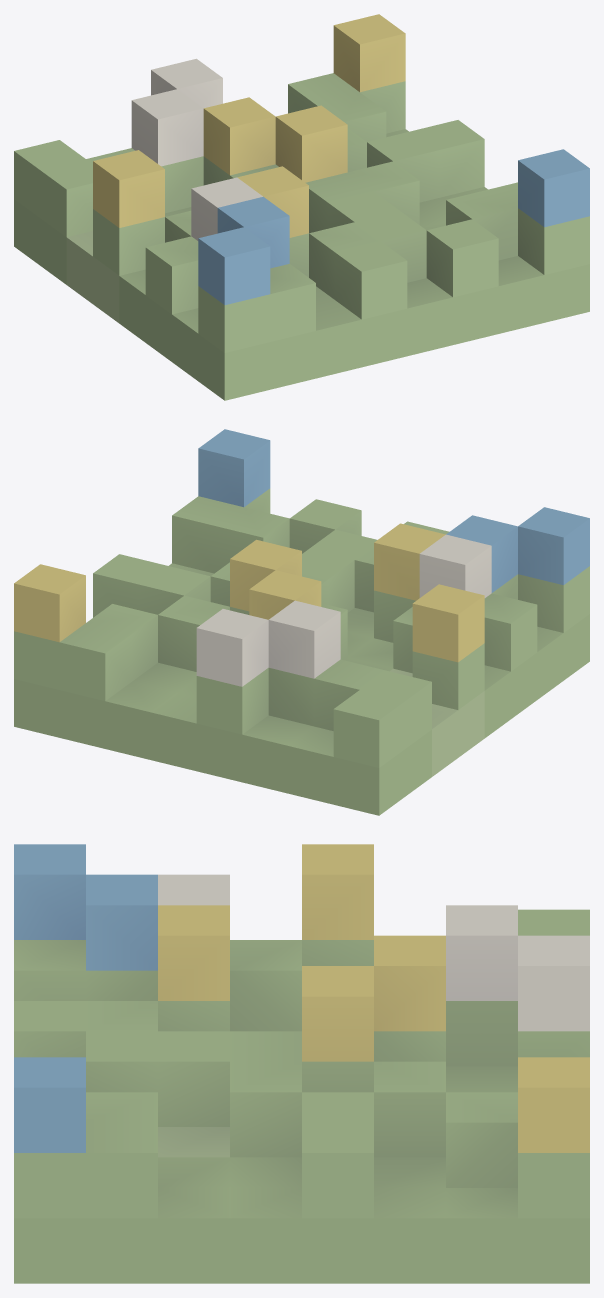
Rendered from meadow.glb.
3 renders of one model, top to bottom at view 1: azimuth 30°, elevation 25°; view 2: azimuth 150°, elevation 25°; view 3: azimuth 270°, elevation 25°, orthographic. The views are drawn at different scales.
Parts seen in each view (by area): view 1: meadow; view 2: meadow; view 3: meadow.
Part boxes in pixels (x1=…): meadow: x1=14, y1=14, x2=589, y2=400; meadow: x1=14, y1=429, x2=589, y2=815; meadow: x1=14, y1=844, x2=589, y2=1283.
Size of the model in its own units: 1 by 0.375 by 1.
